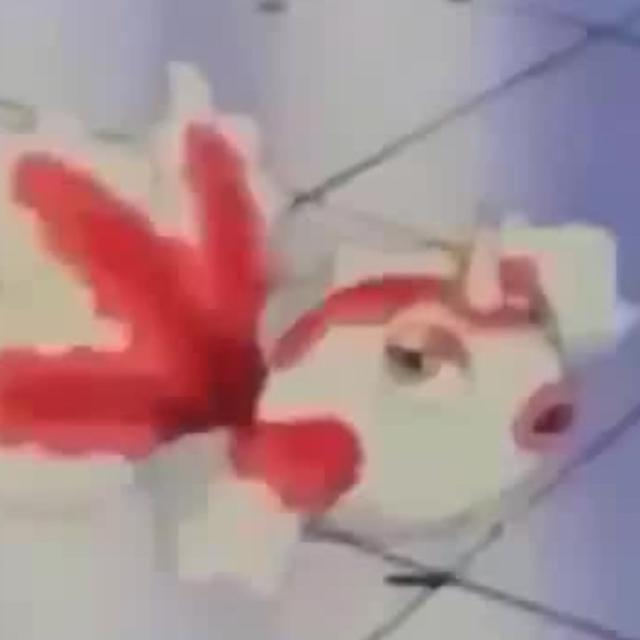Goldeen: (126, 175, 620, 560)
